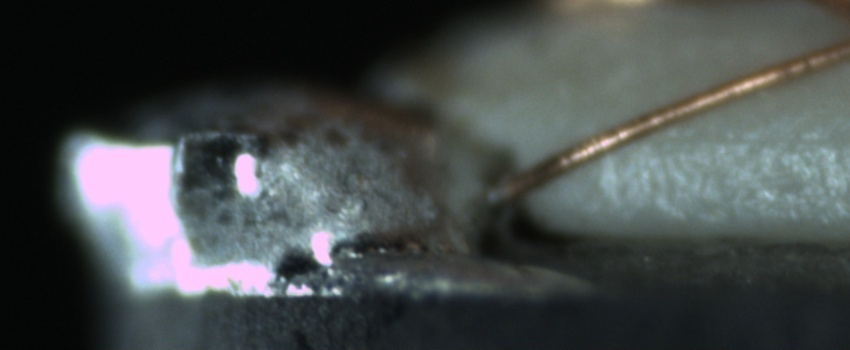DL: (635, 111, 850, 172)
